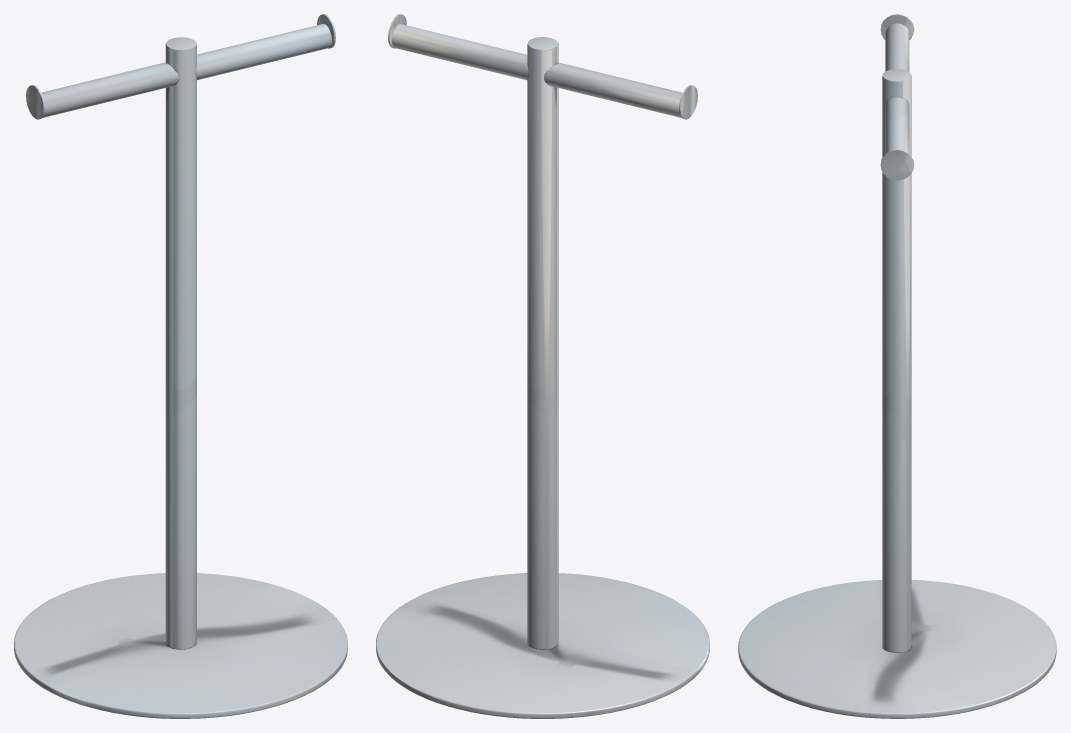
File: termoli.glb
3 renders of one model, left to right at view 1: azimuth 30°, elevation 25°; view 2: azimuth 150°, elevation 25°; view 3: azimuth 270°, elevation 25°, orthographic. The views are drawn at different scales.
Visible parts, largest first — view 1: termoli-stainless_steel_coloured; view 2: termoli-stainless_steel_coloured; view 3: termoli-stainless_steel_coloured.
Boxes of the visible parts, <box> form: termoli-stainless_steel_coloured: <box>14,14,347,718</box>; termoli-stainless_steel_coloured: <box>376,14,709,718</box>; termoli-stainless_steel_coloured: <box>738,14,1056,718</box>.
Size of the model in its own units: 0.4041 by 0.8 by 0.4002.
1 material, 1 textured.
